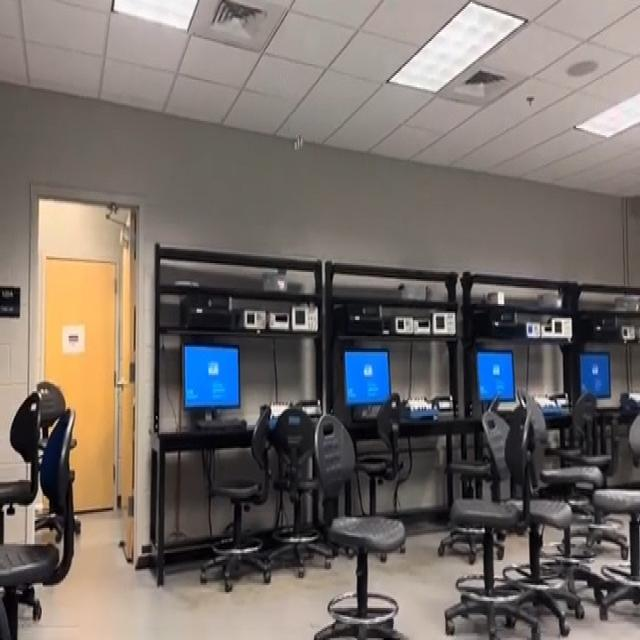drone: (286, 128, 314, 169)
